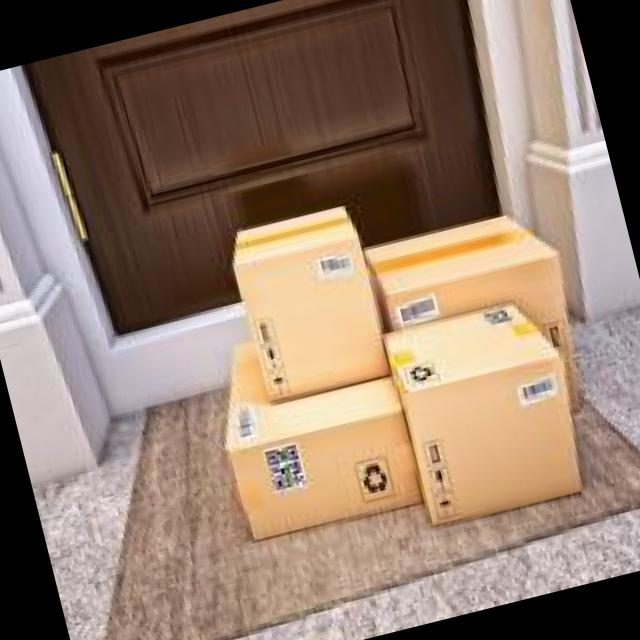box: (381, 301, 586, 528), (361, 214, 583, 412), (221, 340, 423, 545), (227, 205, 394, 403)
